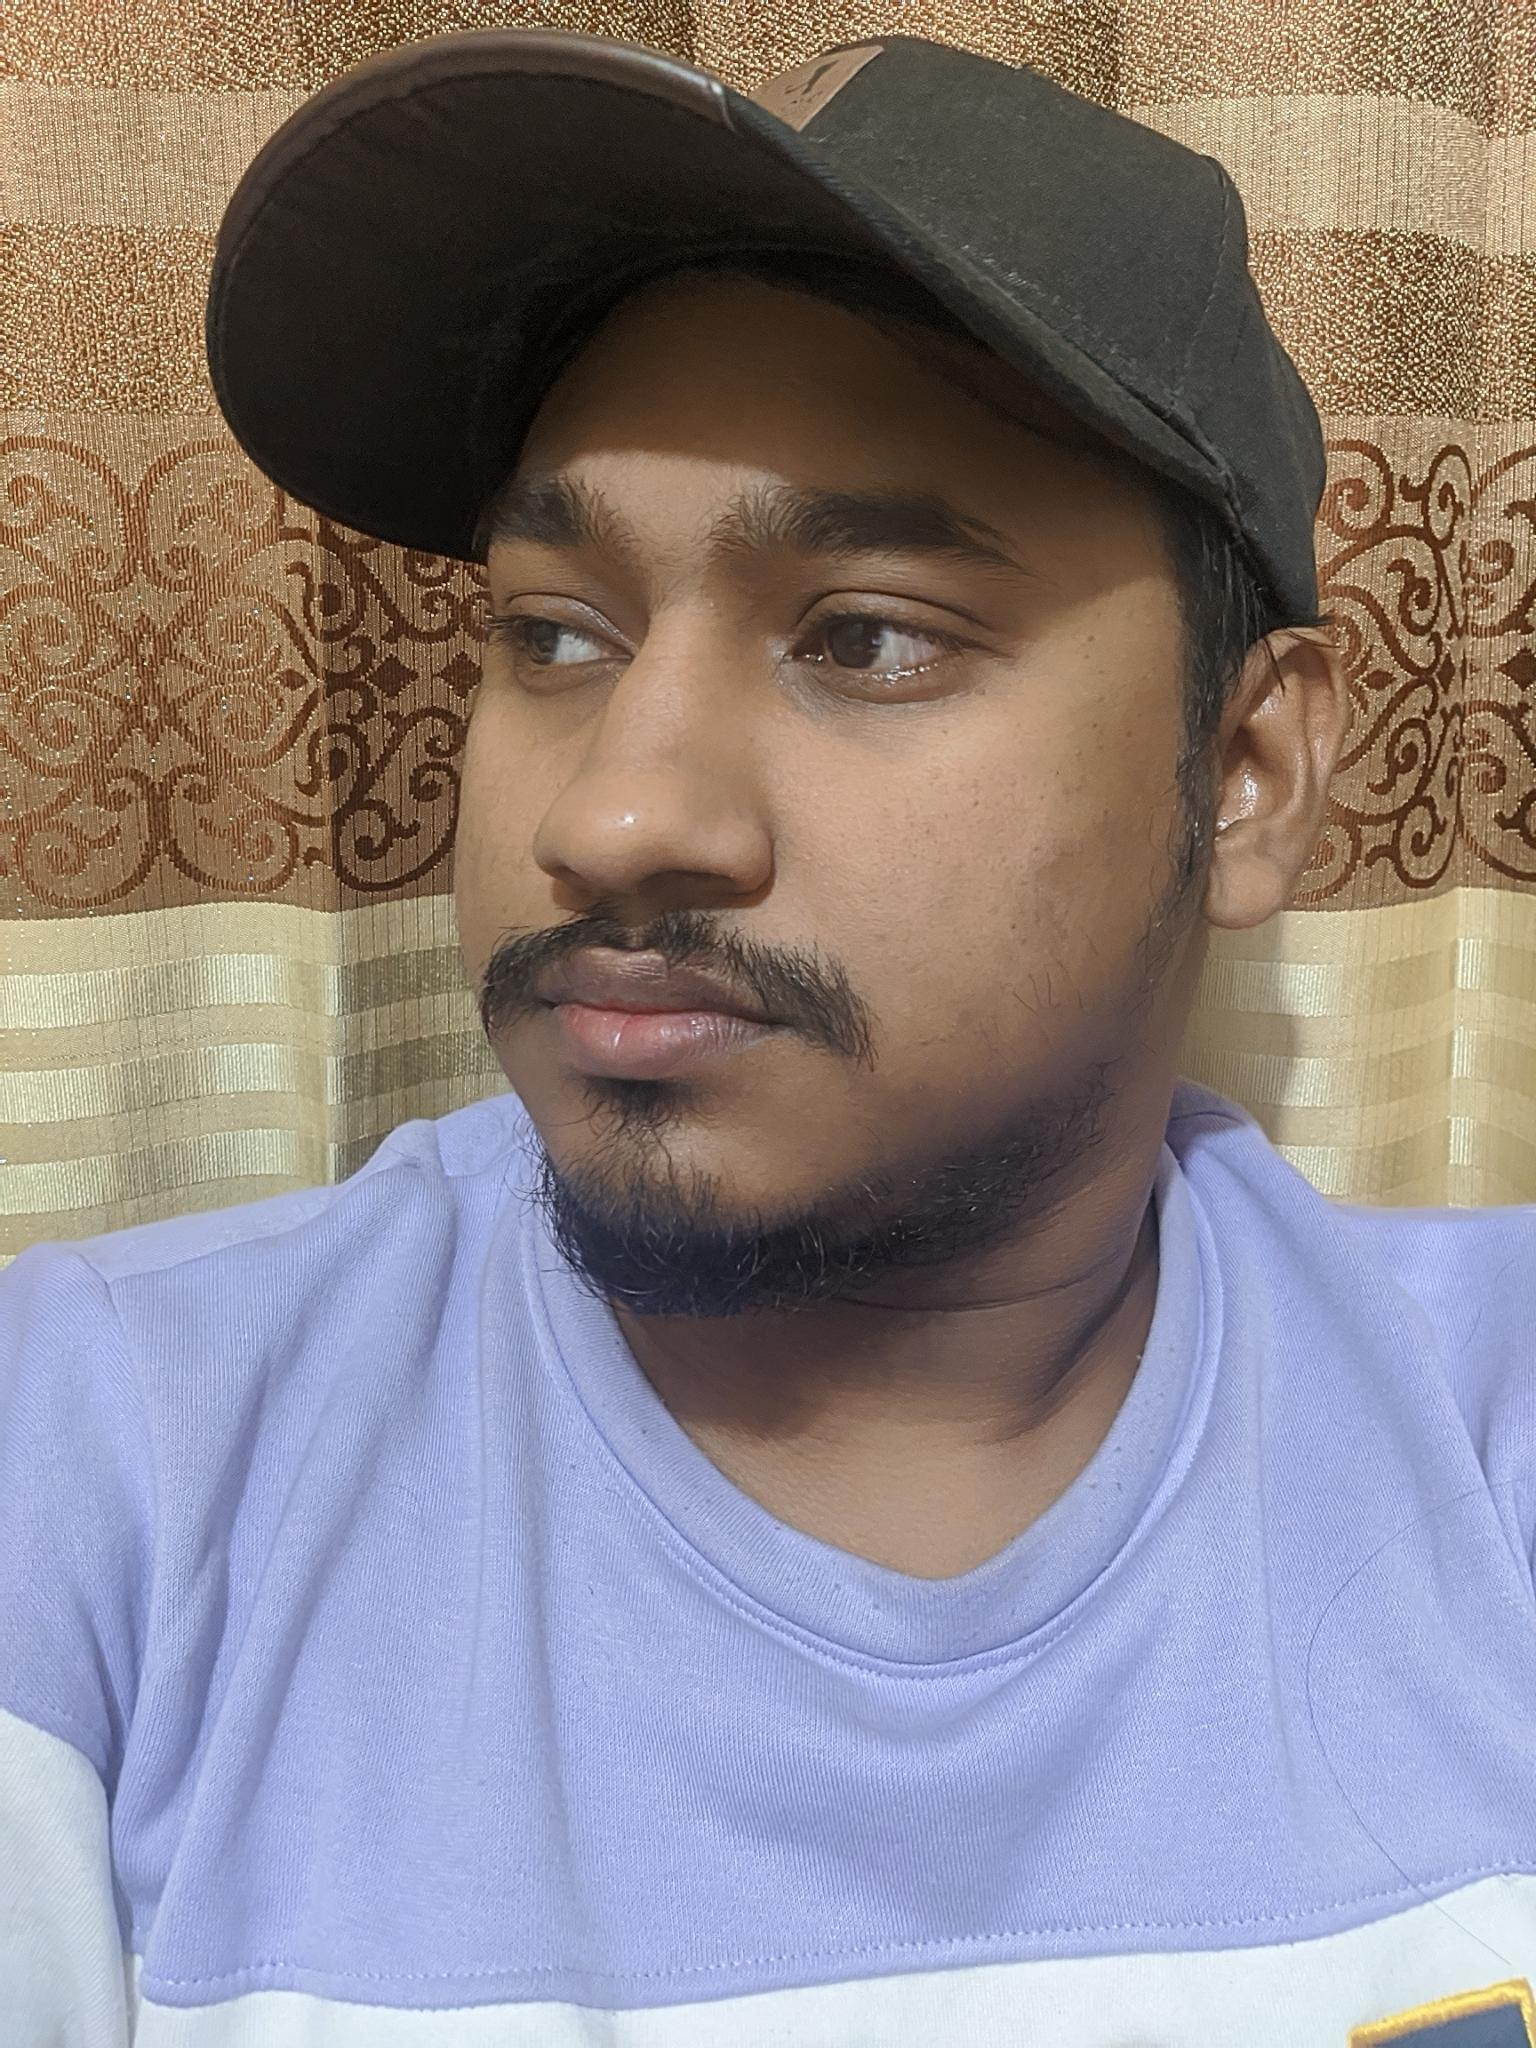Neutral: (371, 316, 1073, 1290)
